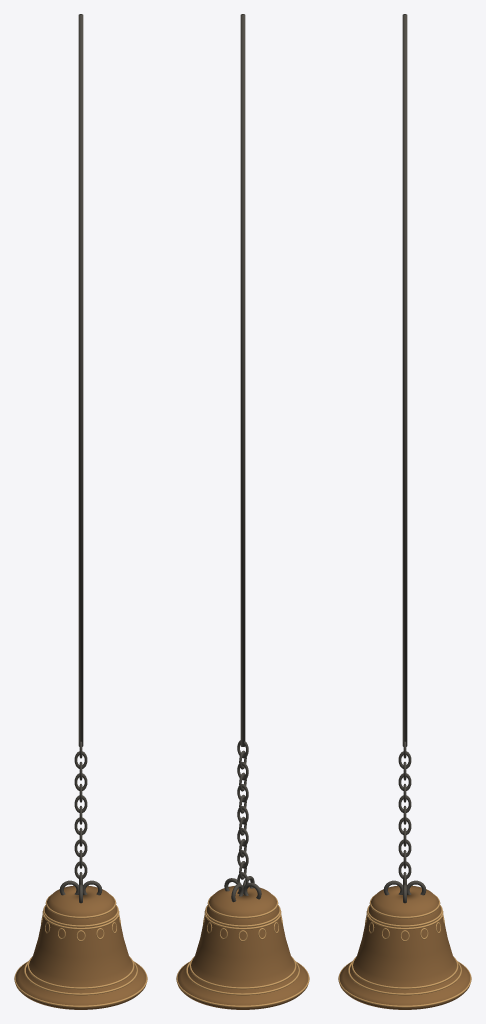
The model's file is passing_bell.glb.
The picture shows the model from 3 angles, left to right: view 1: azimuth 90°, elevation 25°; view 2: azimuth 150°, elevation 25°; view 3: azimuth 270°, elevation 25°; orthographic projection.
Parts seen in each view (by area): view 1: passing_bell; view 2: passing_bell; view 3: passing_bell.
Part boxes in pixels (x1,y1,x2,y2): passing_bell: (14, 14, 147, 1009); passing_bell: (176, 14, 309, 1009); passing_bell: (338, 14, 471, 1009).
Size of the model in its own units: 4.16 by 33.96 by 4.16.
